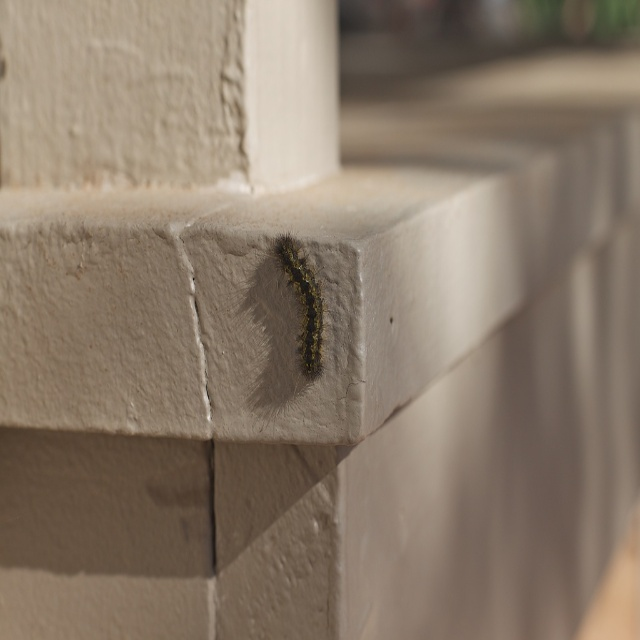Caterpillar: (262, 222, 331, 396)
